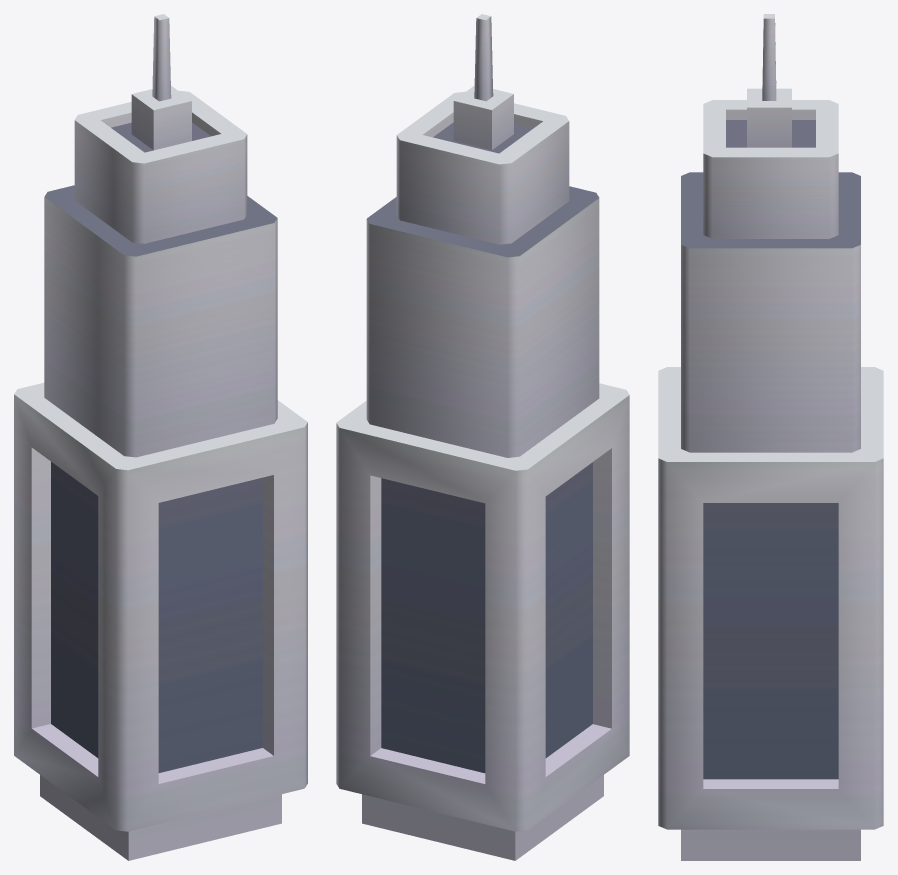
The model's file is low-detail-building-m.glb.
3 renders of one model, left to right at view 1: azimuth 30°, elevation 25°; view 2: azimuth 150°, elevation 25°; view 3: azimuth 270°, elevation 25°, orthographic.
Parts seen in each view (by area): view 1: low-detail-building-m; view 2: low-detail-building-m; view 3: low-detail-building-m.
Boxes of the visible parts, left/top/right/bottom form: low-detail-building-m: left=14, top=14, right=307, bottom=860; low-detail-building-m: left=336, top=14, right=629, bottom=860; low-detail-building-m: left=658, top=14, right=883, bottom=860.
Bounding box in the file's own units: 0.5 × 1.98 × 0.5.
Materials: 1 (1 with a texture image).
